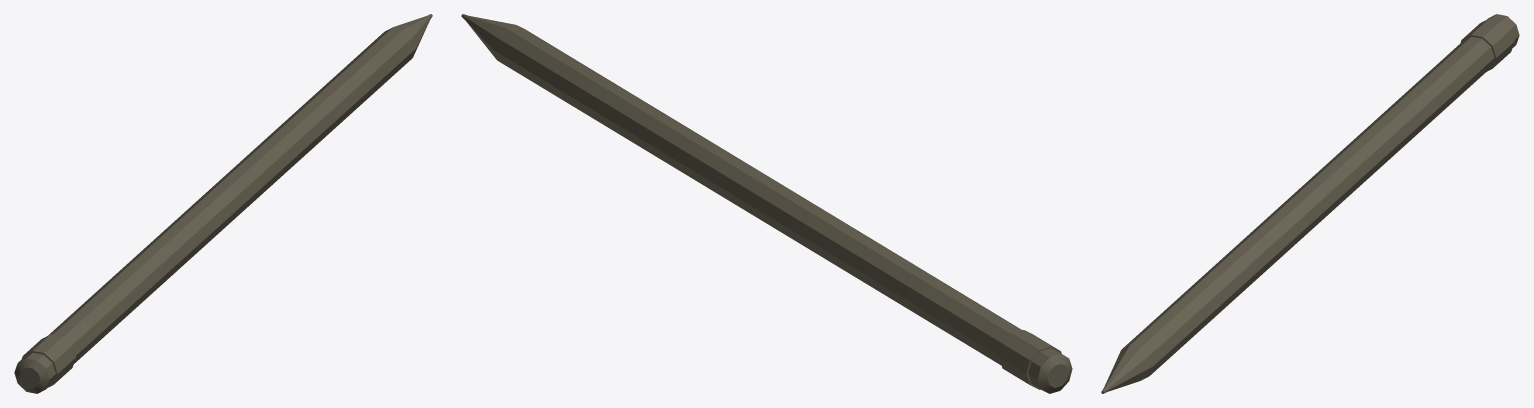
The model's file is office_pencil_cylinder_016_cylinder.fbx.
3 views of the same model, side by side, from view 1: azimuth 90°, elevation 25°; view 2: azimuth 150°, elevation 25°; view 3: azimuth 270°, elevation 25° (orthographic). The views are drawn at different scales.
Parts seen in each view (by area): view 1: office_pencil_cylinder_016_cylinder; view 2: office_pencil_cylinder_016_cylinder; view 3: office_pencil_cylinder_016_cylinder.
Boxes of the visible parts, x1=… form: office_pencil_cylinder_016_cylinder: x1=14, y1=14, x2=432, y2=393; office_pencil_cylinder_016_cylinder: x1=461, y1=14, x2=1072, y2=393; office_pencil_cylinder_016_cylinder: x1=1101, y1=14, x2=1519, y2=393.
Size of the model in its own units: 0.6621 by 0.0309 by 0.3206.
